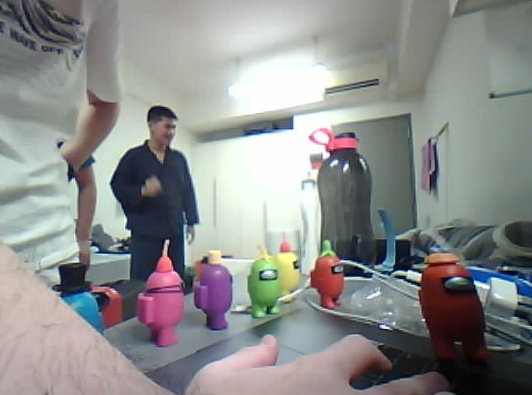alive: (416, 255, 491, 364), (133, 267, 187, 349), (191, 262, 237, 333), (246, 257, 285, 320), (308, 250, 344, 310), (273, 249, 302, 305)
